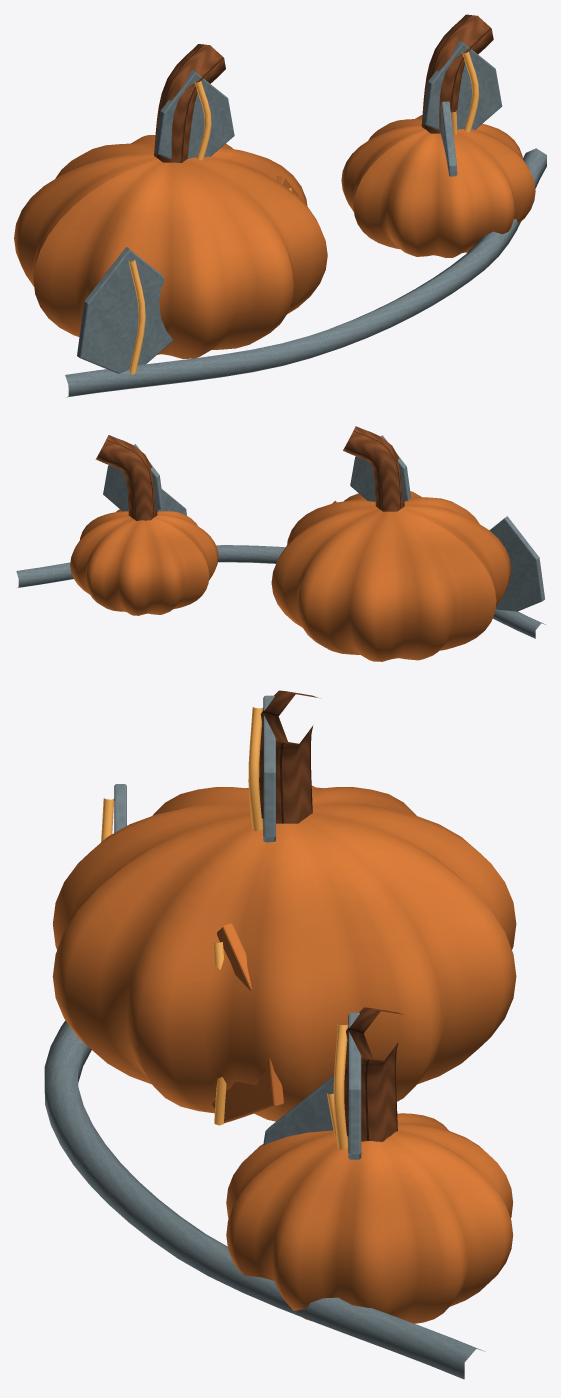
Rendered from hollowwick-halloween-pumpkin-vine-patch-be6353ef__21599.glb.
3 views of the same model, one above another, from view 1: azimuth 30°, elevation 25°; view 2: azimuth 150°, elevation 25°; view 3: azimuth 270°, elevation 25° (orthographic). The views are drawn at different scales.
Parts seen in each view (by area): view 1: pumpkin-vine-patch; view 2: pumpkin-vine-patch; view 3: pumpkin-vine-patch.
Boxes of the visible parts, <box> form: pumpkin-vine-patch: <box>14,14,546,397</box>; pumpkin-vine-patch: <box>16,426,545,661</box>; pumpkin-vine-patch: <box>44,690,516,1379</box>.
Bounding box in the file's own units: 0.975 × 0.4438 × 0.4433.
4 materials, 3 textured.
